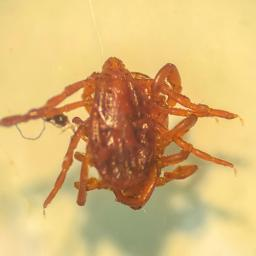Rhipicephalus sanguineus: (2, 56, 241, 210)
